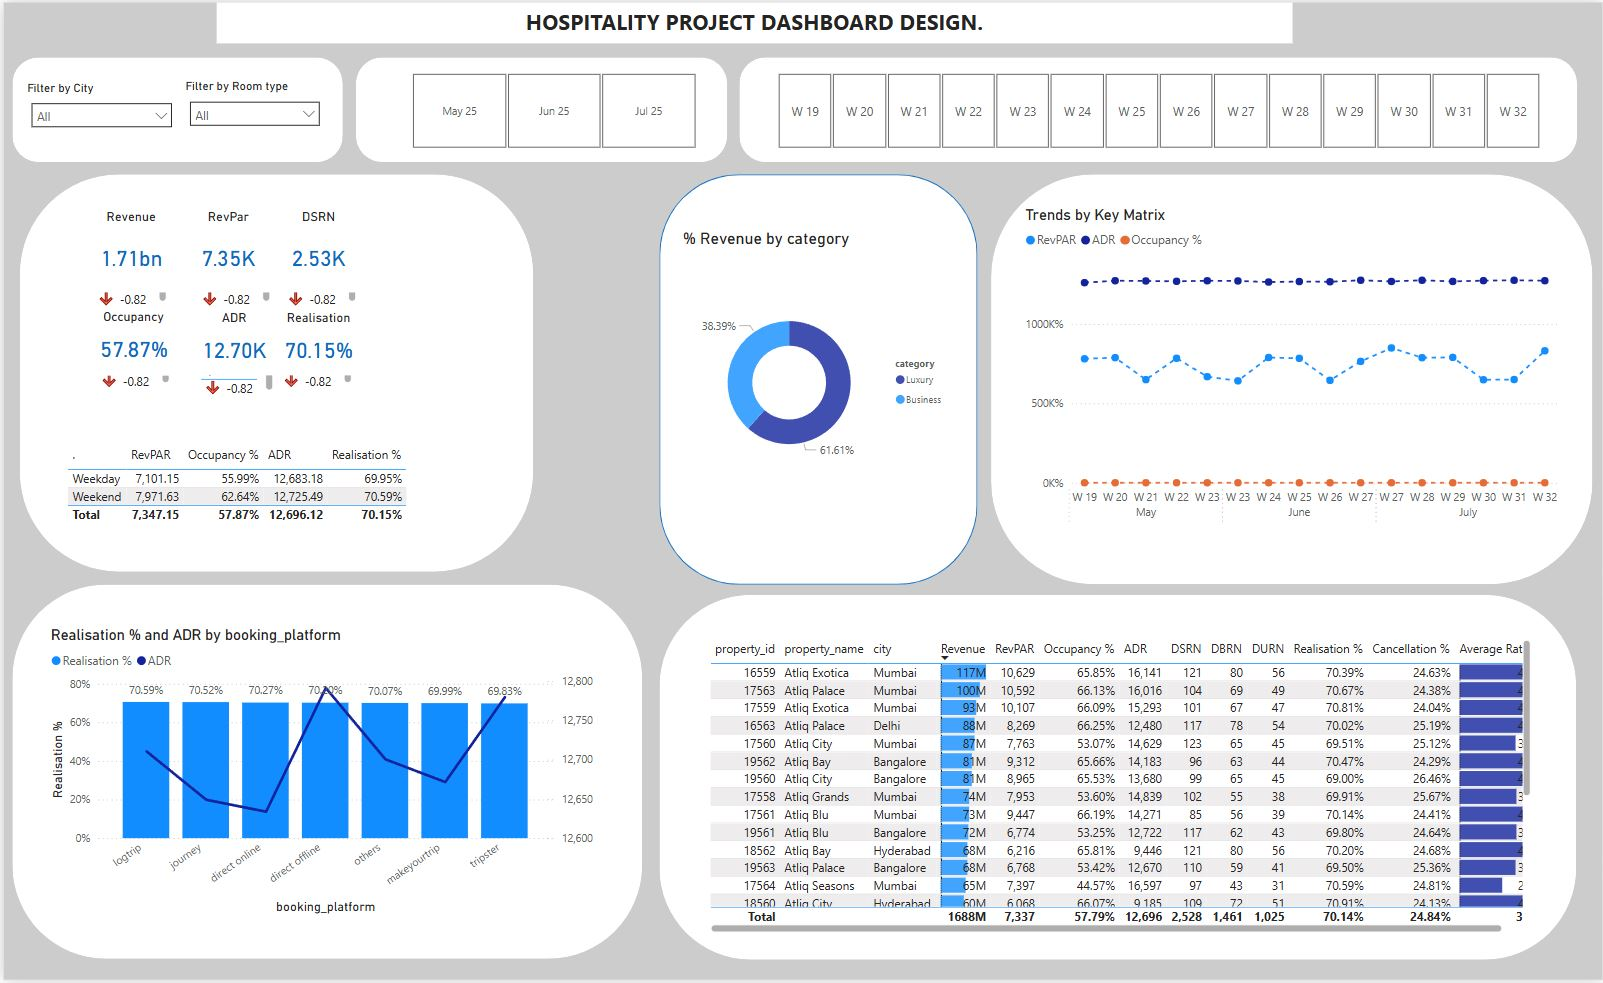

The dashboard page shown, as its layout file describes it:
{"tool":"powerbi","page":{"name":"Page 1","canvas":[1800,1100],"ordinal":0},"visuals":[{"type":"shape","box":[738.5,666.2,1032.3,410.8],"z":0},{"type":"shape","box":[9.2,655.4,709.2,421.5],"z":1000},{"type":"shape","box":[1112.3,193.8,676.9,461.5],"z":2000},{"type":"shape","box":[738.5,193.8,358.5,461.5],"z":3000},{"type":"shape","box":[18.5,193.8,578.5,447.7],"z":5000},{"type":"shape","box":[827.7,61.5,943.1,118.5],"z":6000},{"type":"shape","box":[396.9,61.5,418.5,118.5],"z":7000},{"type":"shape","box":[9.2,61.5,372.3,118.5],"z":8000},{"type":"slicer","title":"Filter by City","fields":{"Values":["dim_hotels.city"]},"box":[21.5,87.7,178.5,76.9],"z":9000},{"type":"slicer","title":"Filter by Room type","fields":{"Values":["dim_rooms.room_class"]},"box":[200,86.2,166.2,70.8],"z":10000},{"type":"tableEx","fields":{"Values":["dim_hotels.property_id","dim_hotels.property_name","dim_hotels.city","Key_measures.Revenue","Key_measures.RevPAR","Key_measures.Occupancy %","Key_measures.ADR","Key_measures.DSRN","Key_measures.DBRN","Key_measures.DURN","Key_measures.Realisation %","Key_measures.Cancellation %"]},"box":[789.2,712.3,933.8,340],"z":11000},{"type":"slicer","fields":{"Values":["dim_date.mmm yy"]},"box":[435.4,73.8,367.7,96.9],"z":12000},{"type":"slicer","fields":{"Values":["dim_date.week no"]},"box":[846.2,73.8,906.2,96.9],"z":13000},{"type":"tableEx","fields":{"Values":["Key_measures.Revenue WoW change %"]},"box":[97.5,292.3,91.8,54.5],"z":14000},{"type":"donutChart","title":"% Revenue by category","fields":{"Category":["dim_hotels.category"],"Y":["Key_measures.Revenue"]},"box":[760,255.4,310.8,324.6],"z":15000},{"type":"card","title":"Revenue","fields":{"Values":["Key_measures.Revenue"]},"box":[92.9,234.1,100.9,92.7],"z":16000},{"type":"tableEx","fields":{"Values":["Key_measures.Revenue WoW change %"]},"box":[216.6,392.3,91.8,54.5],"z":17000},{"type":"tableEx","fields":{"Values":["Key_measures.Revenue WoW change %"]},"box":[305.7,384.1,91.8,54.5],"z":18000},{"type":"tableEx","fields":{"Values":["Key_measures.Revenue WoW change %"]},"box":[100.2,384.1,91.8,54.5],"z":19000},{"type":"tableEx","fields":{"Values":["Key_measures.Revenue WoW change %"]},"box":[213.9,292.3,91.8,54.5],"z":20000},{"type":"tableEx","fields":{"Values":["Key_measures.Revenue WoW change %"]},"box":[309.3,292.3,91.8,54.5],"z":21000},{"type":"card","title":"RevPar","fields":{"Values":["Key_measures.RevPAR"]},"box":[199.3,234.1,106.4,92.7],"z":22000},{"type":"card","title":"DSRN","fields":{"Values":["Key_measures.DSRN"]},"box":[308.4,234.1,92.7,92.7],"z":23000},{"type":"card","title":"Occupancy","fields":{"Values":["Key_measures.Occupancy %"]},"box":[92.9,345,106.4,74.5],"z":24000},{"type":"card","title":"ADR","fields":{"Values":["Key_measures.ADR"]},"box":[212.9,346.9,92.7,72.7],"z":25000},{"type":"card","title":"Realisation","fields":{"Values":["Key_measures.Realisation %"]},"box":[308.4,346.9,92.7,72.7],"z":26000},{"type":"lineChart","title":"Trends by Key Matrix","fields":{"Category":["dim_date.mmm yy.Variation.Date Hierarchy.Month","dim_date.week no"],"Y":["Key_measures.RevPAR","Key_measures.ADR","Key_measures.Occupancy %"]},"box":[1144.6,227.7,610.8,367.7],"z":27000},{"type":"lineStackedColumnComboChart","fields":{"Category":["fact_booking.booking_platform"],"Y":["Key_measures.Realisation %"],"Y2":["Key_measures.ADR"]},"box":[47.7,701.5,620,329.2],"z":28000},{"type":"tableEx","fields":{"Values":["dim_date.day_type","Key_measures.RevPAR","Key_measures.Occupancy %","Key_measures.ADR","Key_measures.Realisation %"]},"box":[66.2,493.8,404.6,116.9],"z":29000},{"type":"textbox","box":[240,0,1210.8,46.2],"z":29001}]}

Visuals, with their boxes in screenshot pixels (x1, y1, x2, y2), scaled from the page's 1800x1100 canvas onto the 1603x983 screenshot:
shape: (x1=658, y1=595, x2=1577, y2=962)
shape: (x1=8, y1=586, x2=640, y2=962)
shape: (x1=991, y1=173, x2=1593, y2=586)
shape: (x1=658, y1=173, x2=977, y2=586)
shape: (x1=16, y1=173, x2=532, y2=573)
shape: (x1=737, y1=55, x2=1577, y2=161)
shape: (x1=353, y1=55, x2=726, y2=161)
shape: (x1=8, y1=55, x2=340, y2=161)
"Filter by City" slicer: (x1=19, y1=78, x2=178, y2=147)
"Filter by Room type" slicer: (x1=178, y1=77, x2=326, y2=140)
tableEx - dim_hotels.property_id x dim_hotels.property_name: (x1=703, y1=637, x2=1534, y2=940)
slicer - dim_date.mmm yy: (x1=388, y1=66, x2=715, y2=153)
slicer - dim_date.week no: (x1=754, y1=66, x2=1561, y2=153)
tableEx - Key_measures.Revenue WoW change %: (x1=87, y1=261, x2=169, y2=310)
"% Revenue by category" donutChart: (x1=677, y1=228, x2=954, y2=518)
"Revenue" card: (x1=83, y1=209, x2=173, y2=292)
tableEx - Key_measures.Revenue WoW change %: (x1=193, y1=351, x2=275, y2=399)
tableEx - Key_measures.Revenue WoW change %: (x1=272, y1=343, x2=354, y2=392)
tableEx - Key_measures.Revenue WoW change %: (x1=89, y1=343, x2=171, y2=392)
tableEx - Key_measures.Revenue WoW change %: (x1=190, y1=261, x2=272, y2=310)
tableEx - Key_measures.Revenue WoW change %: (x1=275, y1=261, x2=357, y2=310)
"RevPar" card: (x1=177, y1=209, x2=272, y2=292)
"DSRN" card: (x1=275, y1=209, x2=357, y2=292)
"Occupancy" card: (x1=83, y1=308, x2=177, y2=375)
"ADR" card: (x1=190, y1=310, x2=272, y2=375)
"Realisation" card: (x1=275, y1=310, x2=357, y2=375)
"Trends by Key Matrix" lineChart: (x1=1019, y1=203, x2=1563, y2=532)
lineStackedColumnComboChart - fact_booking.booking_platform x Key_measures.Realisation %: (x1=42, y1=627, x2=595, y2=921)
tableEx - dim_date.day_type x Key_measures.RevPAR: (x1=59, y1=441, x2=419, y2=546)
textbox: (x1=214, y1=0, x2=1292, y2=41)
